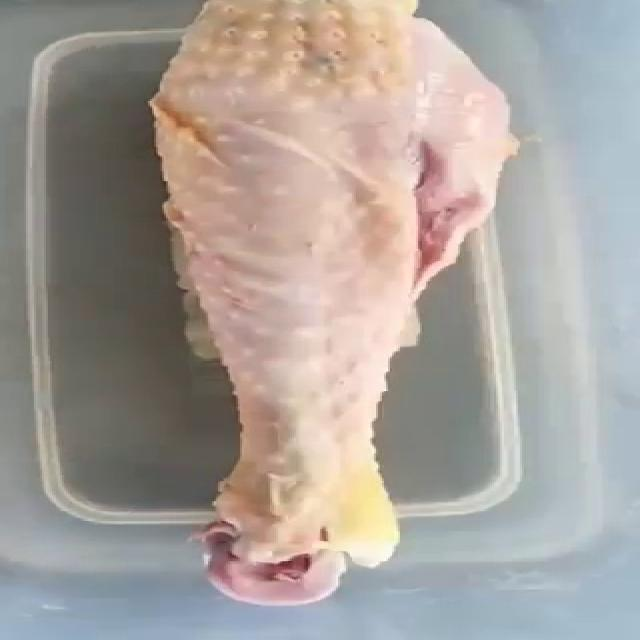chicken: (128, 0, 528, 610)
